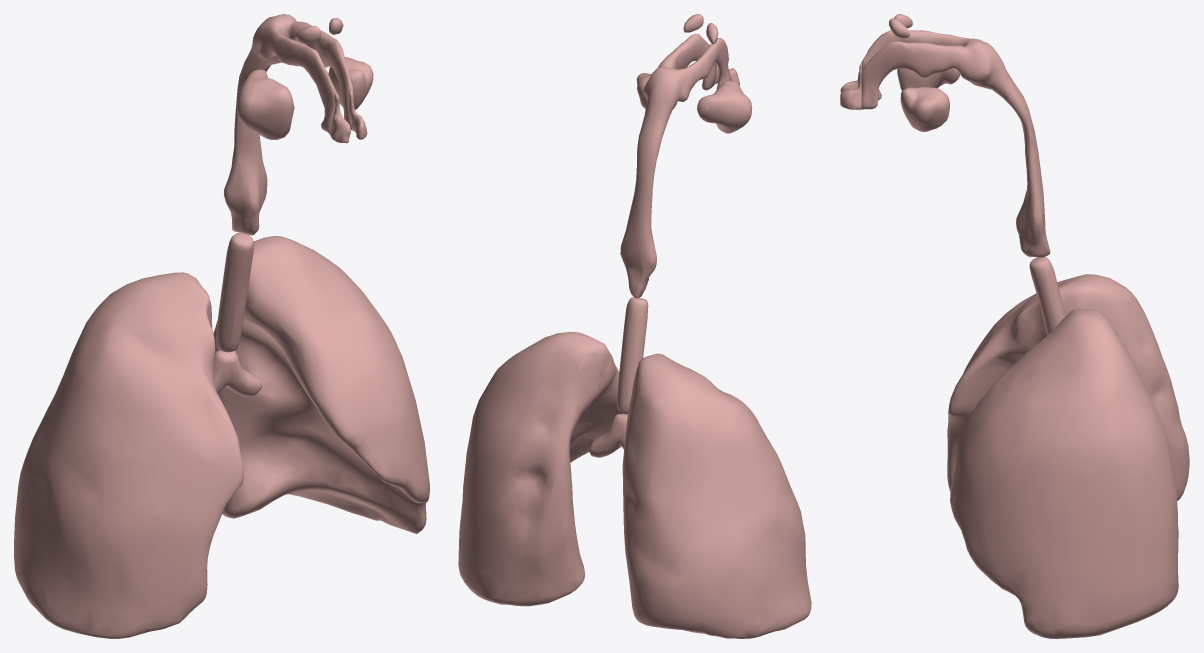
The model's file is pediatric_child_10y_male.respiratory.LOD0.glb.
The picture shows the model from 3 angles, left to right: view 1: azimuth 30°, elevation 25°; view 2: azimuth 150°, elevation 25°; view 3: azimuth 270°, elevation 25°; orthographic projection. The views are drawn at different scales.
Parts seen in each view (by area): view 1: PEDIATRIC.CHILD_10Y.MALE.RESPIRATORY.LUNG.R, PEDIATRIC.CHILD_10Y.MALE.RESPIRATORY.LUNG.L, PEDIATRIC.CHILD_10Y.MALE.RESPIRATORY.ET2, PEDIATRIC.CHILD_10Y.MALE.RESPIRATORY.TRACHEA, PEDIATRIC.CHILD_10Y.MALE.RESPIRATORY.BB1, PEDIATRIC.CHILD_10Y.MALE.RESPIRATORY.ET1; view 2: PEDIATRIC.CHILD_10Y.MALE.RESPIRATORY.LUNG.R, PEDIATRIC.CHILD_10Y.MALE.RESPIRATORY.LUNG.L, PEDIATRIC.CHILD_10Y.MALE.RESPIRATORY.ET2, PEDIATRIC.CHILD_10Y.MALE.RESPIRATORY.TRACHEA, PEDIATRIC.CHILD_10Y.MALE.RESPIRATORY.BB1; view 3: PEDIATRIC.CHILD_10Y.MALE.RESPIRATORY.LUNG.L, PEDIATRIC.CHILD_10Y.MALE.RESPIRATORY.LUNG.R, PEDIATRIC.CHILD_10Y.MALE.RESPIRATORY.ET2, PEDIATRIC.CHILD_10Y.MALE.RESPIRATORY.TRACHEA, PEDIATRIC.CHILD_10Y.MALE.RESPIRATORY.ET1.
Boxes of the visible parts, x1=… form: PEDIATRIC.CHILD_10Y.MALE.RESPIRATORY.LUNG.R: x1=14, y1=272, x2=243, y2=638; PEDIATRIC.CHILD_10Y.MALE.RESPIRATORY.LUNG.L: x1=213, y1=236, x2=429, y2=533; PEDIATRIC.CHILD_10Y.MALE.RESPIRATORY.ET2: x1=223, y1=14, x2=373, y2=235; PEDIATRIC.CHILD_10Y.MALE.RESPIRATORY.TRACHEA: x1=216, y1=233, x2=253, y2=352; PEDIATRIC.CHILD_10Y.MALE.RESPIRATORY.BB1: x1=214, y1=350, x2=261, y2=396; PEDIATRIC.CHILD_10Y.MALE.RESPIRATORY.ET1: x1=329, y1=89, x2=367, y2=143; PEDIATRIC.CHILD_10Y.MALE.RESPIRATORY.LUNG.R: x1=622, y1=353, x2=811, y2=638; PEDIATRIC.CHILD_10Y.MALE.RESPIRATORY.LUNG.L: x1=458, y1=331, x2=627, y2=606; PEDIATRIC.CHILD_10Y.MALE.RESPIRATORY.ET2: x1=620, y1=14, x2=752, y2=298; PEDIATRIC.CHILD_10Y.MALE.RESPIRATORY.TRACHEA: x1=617, y1=297, x2=648, y2=412; PEDIATRIC.CHILD_10Y.MALE.RESPIRATORY.BB1: x1=589, y1=413, x2=627, y2=457; PEDIATRIC.CHILD_10Y.MALE.RESPIRATORY.LUNG.L: x1=950, y1=309, x2=1178, y2=638; PEDIATRIC.CHILD_10Y.MALE.RESPIRATORY.LUNG.R: x1=947, y1=274, x2=1189, y2=500; PEDIATRIC.CHILD_10Y.MALE.RESPIRATORY.ET2: x1=861, y1=14, x2=1050, y2=257; PEDIATRIC.CHILD_10Y.MALE.RESPIRATORY.TRACHEA: x1=1029, y1=257, x2=1065, y2=334; PEDIATRIC.CHILD_10Y.MALE.RESPIRATORY.ET1: x1=840, y1=62, x2=861, y2=109.
Size of the model in its own units: 0.198 by 0.3062 by 0.1762.
